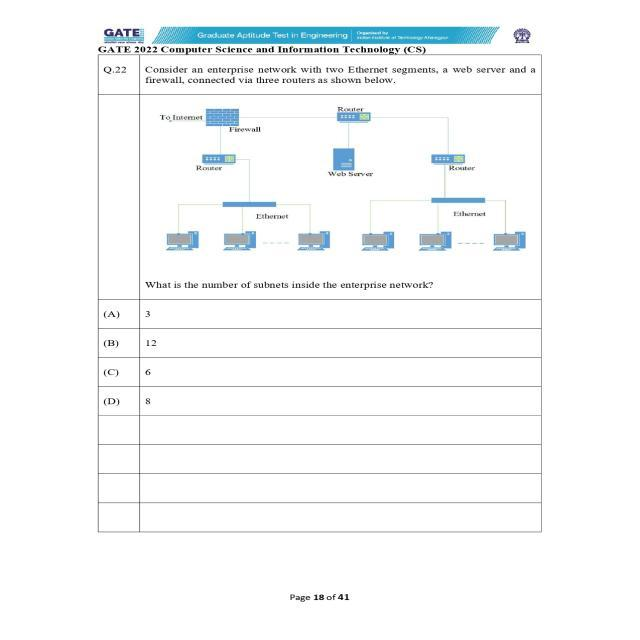Answer_Block: (98, 300, 541, 414)
Question_Answer_Block: (98, 55, 541, 416)
Question_Block: (98, 54, 540, 300)
Question_Paper_Area: (98, 55, 541, 415)
